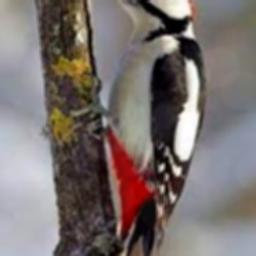Woodpecker: (78, 0, 207, 256)
